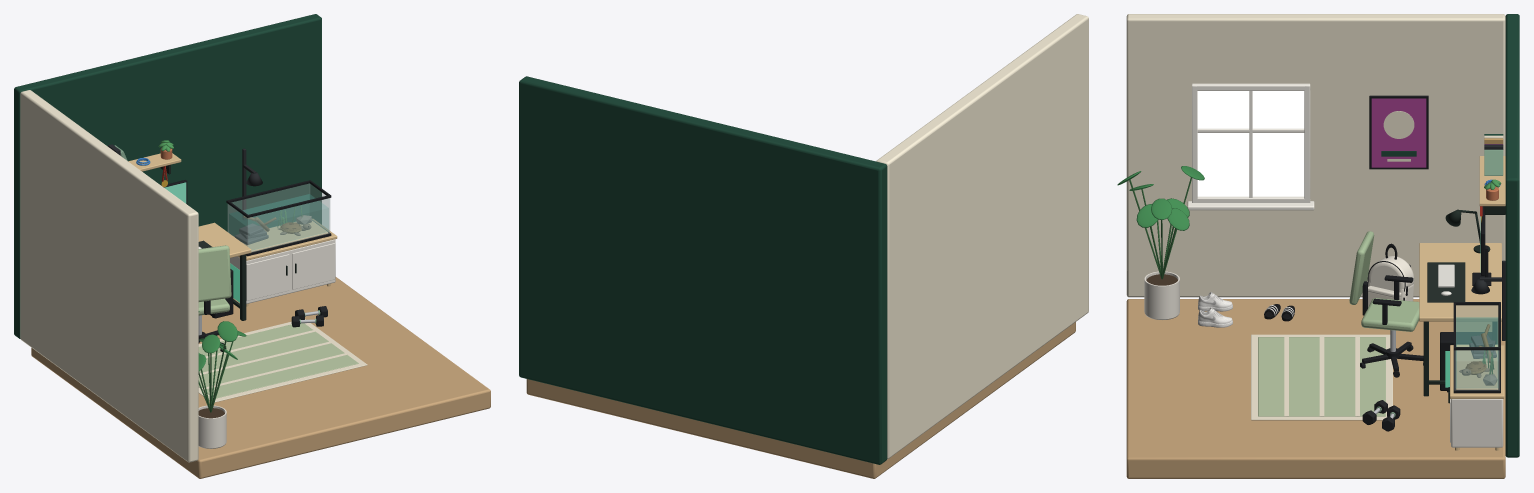
The model's file is chambre.glb.
3 views of the same model, side by side, from view 1: azimuth 30°, elevation 25°; view 2: azimuth 150°, elevation 25°; view 3: azimuth 270°, elevation 25° (orthographic). The views are drawn at different scales.
Visible parts, largest first — view 1: Mur_gauche, Mur_fond, Sol, Tapis_sol, Aqua_eau, Aqua_vitre_avant, Chaise_dossier, Meuble_porte_-1, Meuble_porte_1, Tapis_bordure, Aqua_vitre_arriere, Grande_plante_pot (+5 smaller); view 2: Mur_fond, Mur_gauche, Sol; view 3: Mur_gauche, Sol, Fenetre_vitre, Tapis_sol, Mur_fond, Bureau_plateau, Poster_fond, Aqua_eau, Meuble_aqua, Tapis_bordure, Aqua_vitre_d, Chaise_assise (+22 smaller).
Part boxes in pixels (x1,y1,x2,y2): Mur_gauche: (20,90,198,462); Mur_fond: (14,14,321,338); Sol: (31,277,490,478); Tapis_sol: (198,323,358,398); Aqua_eau: (229,194,328,250); Aqua_vitre_avant: (248,198,329,252); Chaise_dossier: (198,245,231,301); Meuble_porte_-1: (246,254,289,300); Meuble_porte_1: (292,243,335,289); Tapis_bordure: (198,319,367,402); Aqua_vitre_arriere: (228,183,309,231); Grande_plante_pot: (198,405,226,448); Mur_fond: (519,76,887,464); Mur_gauche: (876,14,1088,459); Sol: (526,322,1075,478); Mur_gauche: (1126,14,1505,297); Sol: (1126,299,1505,478); Fenetre_vitre: (1197,91,1304,196); Tapis_sol: (1258,337,1385,416); Mur_fond: (1505,14,1519,457); Bureau_plateau: (1419,243,1501,321); Poster_fond: (1371,98,1426,167); Aqua_eau: (1456,317,1498,387); Meuble_aqua: (1451,399,1503,447); Tapis_bordure: (1251,334,1392,420); Aqua_vitre_d: (1455,350,1499,390); Chaise_assise: (1361,298,1419,331).
Bounding box in the file's own units: 3.32 × 2.8 × 3.4.
64 materials, 1 textured.
